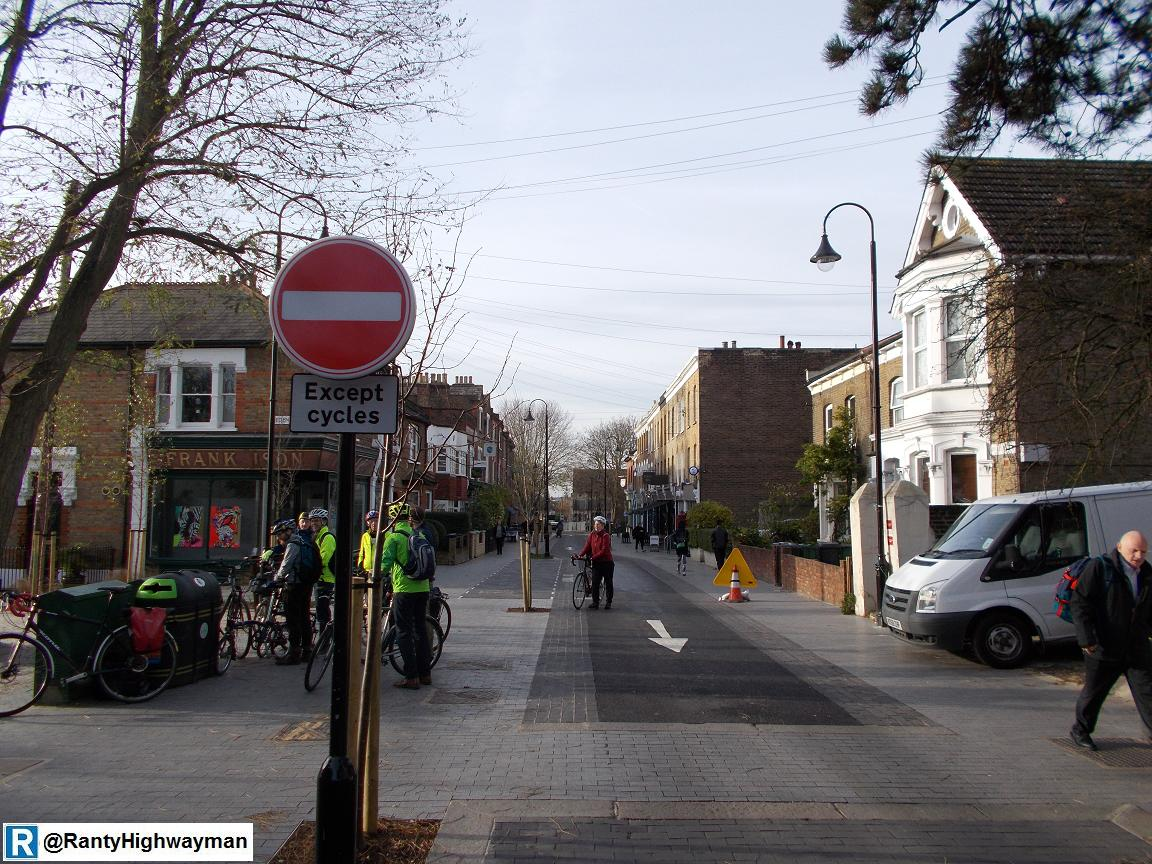No_entry: (270, 235, 418, 381)
